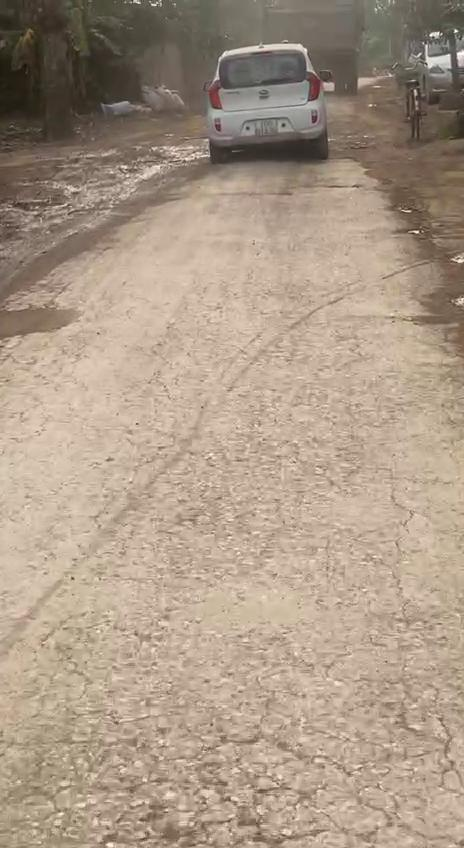pothole: (0, 298, 80, 338)
